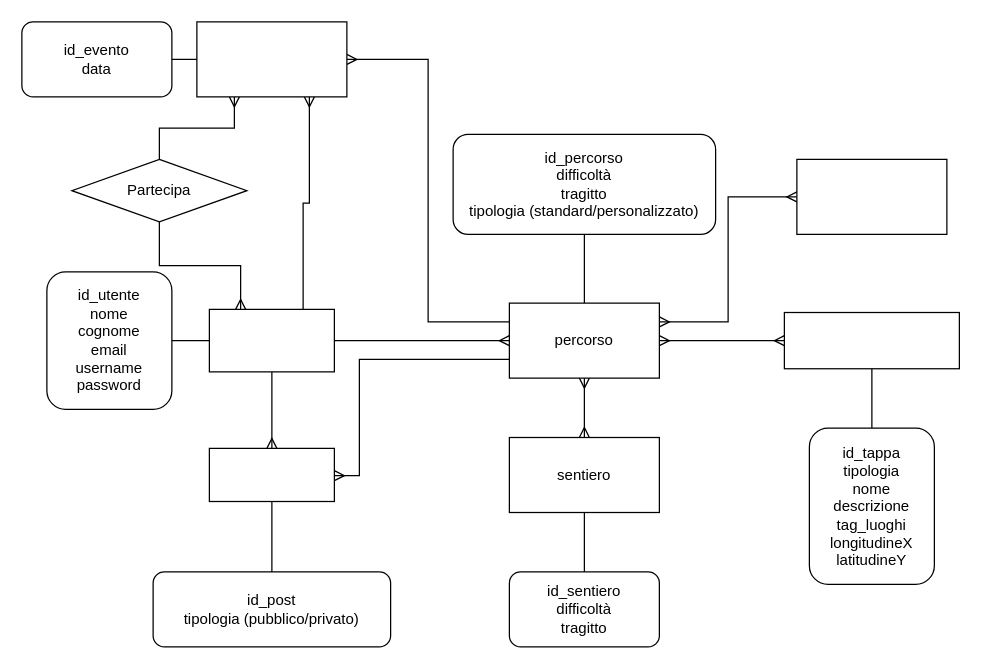
Image size: 981x669. Some labels were removed from this diagram. The centre of each missing label's shape, as x and y in pixels:
"attrezzature" belongs at point (871, 196).
"evento" belongs at point (271, 59).
"post" belongs at point (271, 474).
"tappa" belongs at point (871, 340).
"utente" belongs at point (271, 340).
